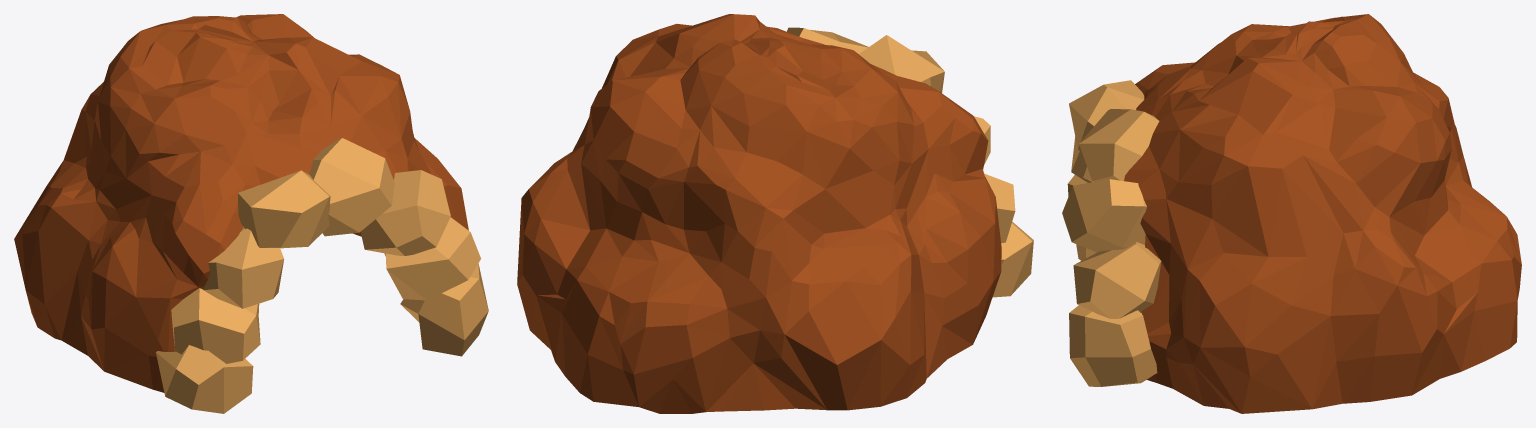
File: island1-cave.fbx
The picture shows the model from 3 angles, left to right: view 1: azimuth 30°, elevation 25°; view 2: azimuth 150°, elevation 25°; view 3: azimuth 270°, elevation 25°; orthographic projection. The views are drawn at different scales.
Visible parts, largest first — view 1: cave; view 2: cave; view 3: cave.
Boxes of the visible parts, <box> form: cave: <box>14,14,488,413</box>; cave: <box>517,14,1033,413</box>; cave: <box>1062,14,1521,413</box>.
Size of the model in its own units: 3.83 by 2.78 by 3.96.
